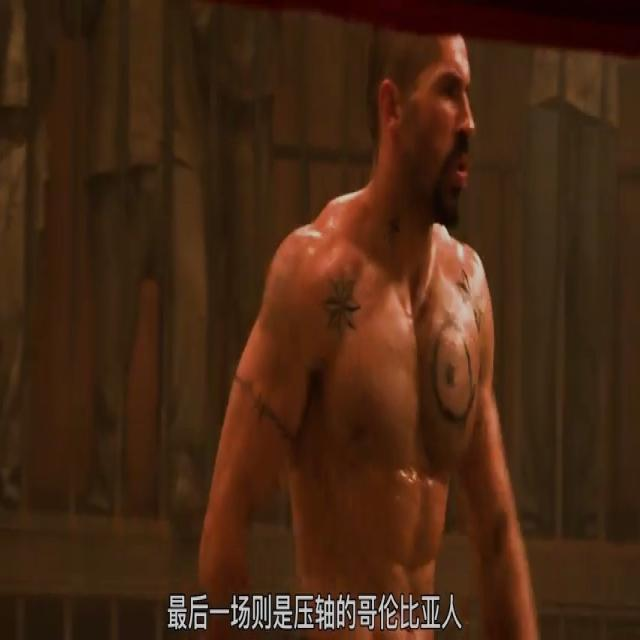non-fight: (175, 0, 574, 639)
